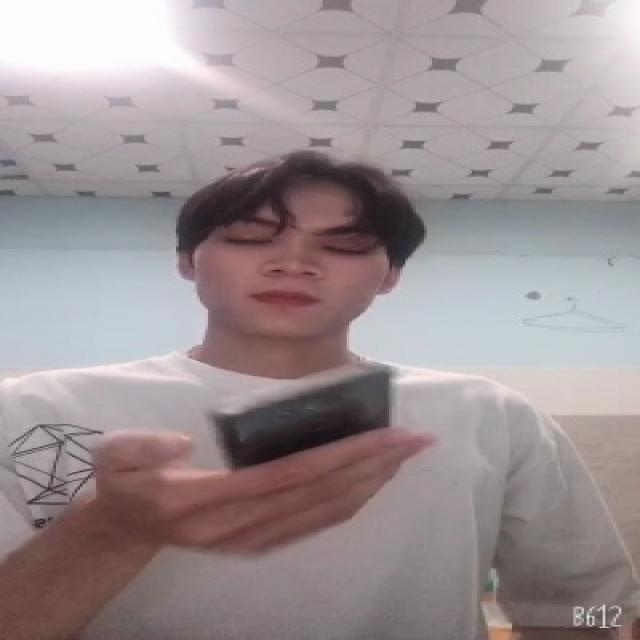Phone: (210, 362, 398, 476)
